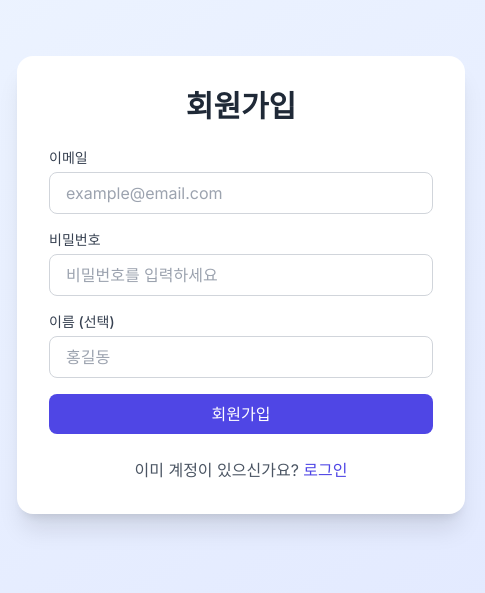
it: RegisterPage › Error handling › should clear error message on new submission
In the field labelled "이메일": (241, 193) left=49, top=172, right=433, bottom=214, type "test@example.com"
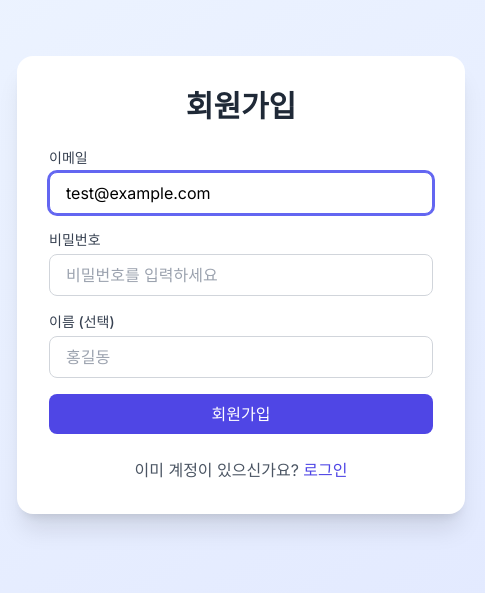
In the password field labelled "비밀번호": (241, 275) left=49, top=254, right=433, bottom=296, type "password123"
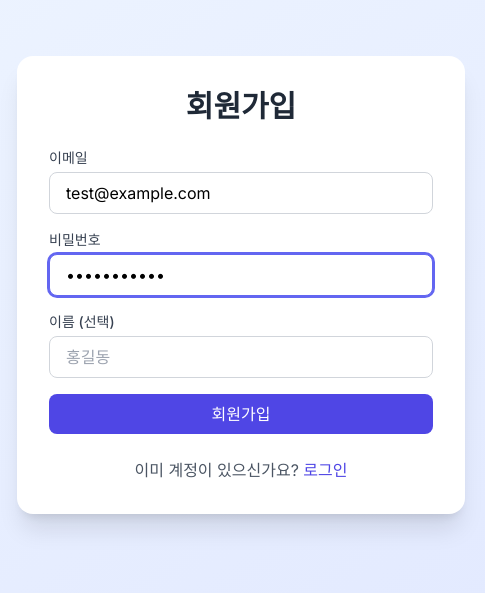
First submission - should fail
Click the button "회원가입": (241, 414) left=49, top=394, right=433, bottom=434
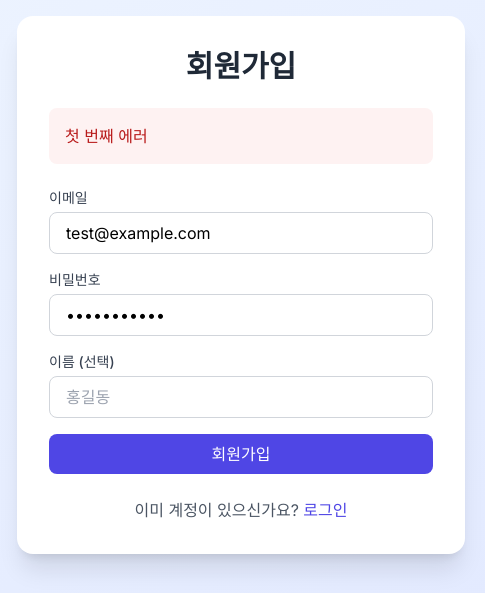
Check: the text "첫 번째 에러" is shown, box left=49, top=108, right=433, bottom=164
Second submission - error should be cleared
Click the button "회원가입": (241, 454) left=49, top=434, right=433, bottom=474
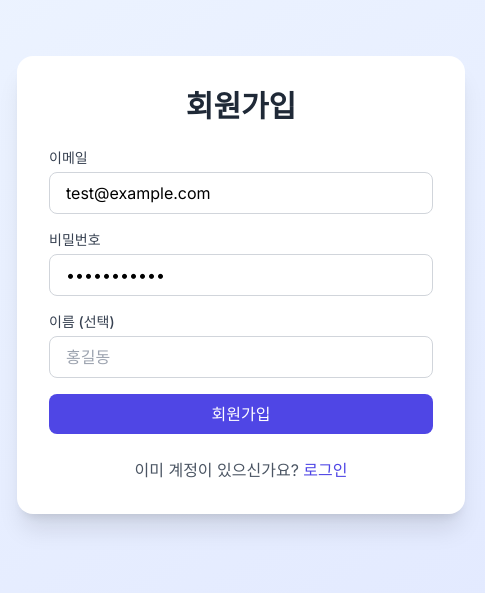
Check: the text "첫 번째 에러" is gone
